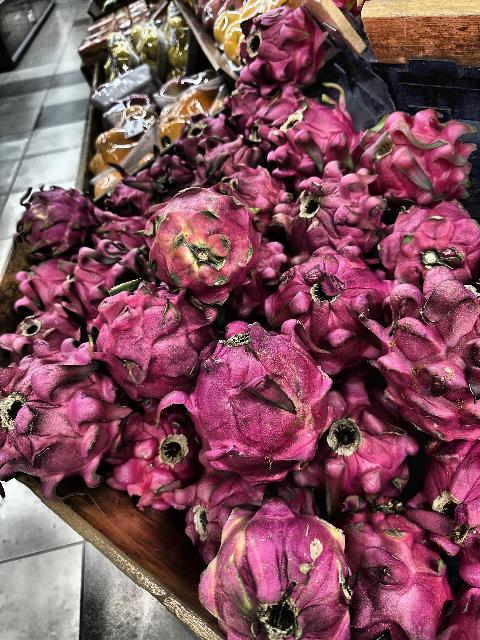buah-naga-belum-matang: (202, 488, 356, 640)
buah-naga-matang: (185, 328, 334, 478), (366, 274, 480, 430), (0, 340, 124, 476), (340, 498, 450, 640), (266, 241, 394, 361), (302, 378, 414, 506), (91, 279, 209, 387), (144, 190, 260, 290), (358, 110, 470, 202), (277, 164, 387, 252), (378, 192, 480, 286), (119, 404, 200, 512), (412, 426, 480, 544), (236, 1, 324, 85), (268, 106, 358, 174), (14, 182, 96, 254), (218, 163, 292, 227), (58, 249, 136, 307), (1, 312, 92, 350), (191, 140, 263, 180), (244, 94, 304, 140), (16, 264, 74, 304), (178, 112, 242, 148), (219, 79, 259, 131), (92, 214, 148, 248)
